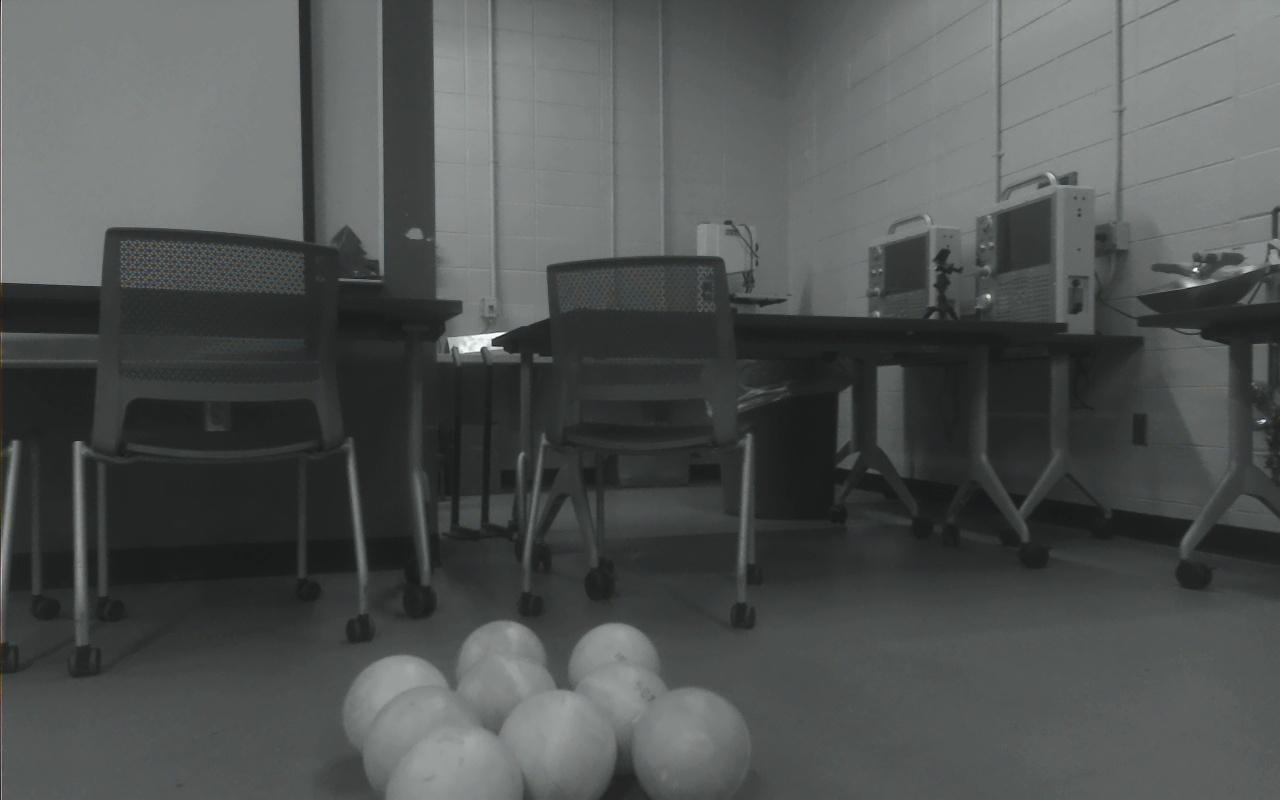Fuel: (362, 686, 488, 800), (631, 686, 753, 800), (498, 688, 618, 800), (572, 660, 673, 774), (342, 654, 452, 757), (385, 726, 525, 800), (453, 651, 559, 738), (567, 623, 662, 691), (454, 619, 549, 684)
